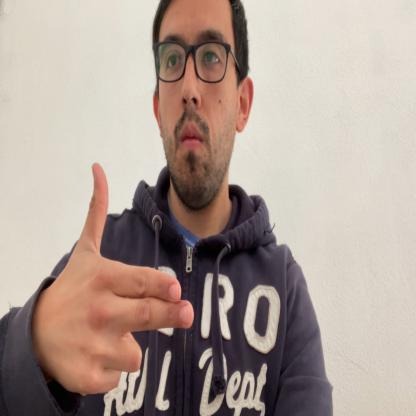H: (57, 160, 195, 396)
